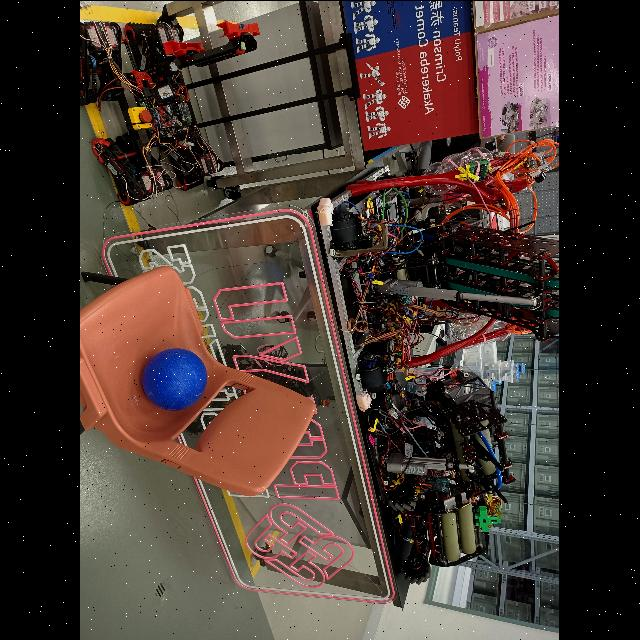B: (142, 347, 208, 409)
